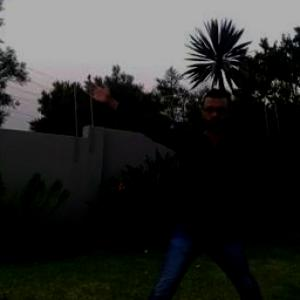takeoff: (103, 94, 299, 299)
